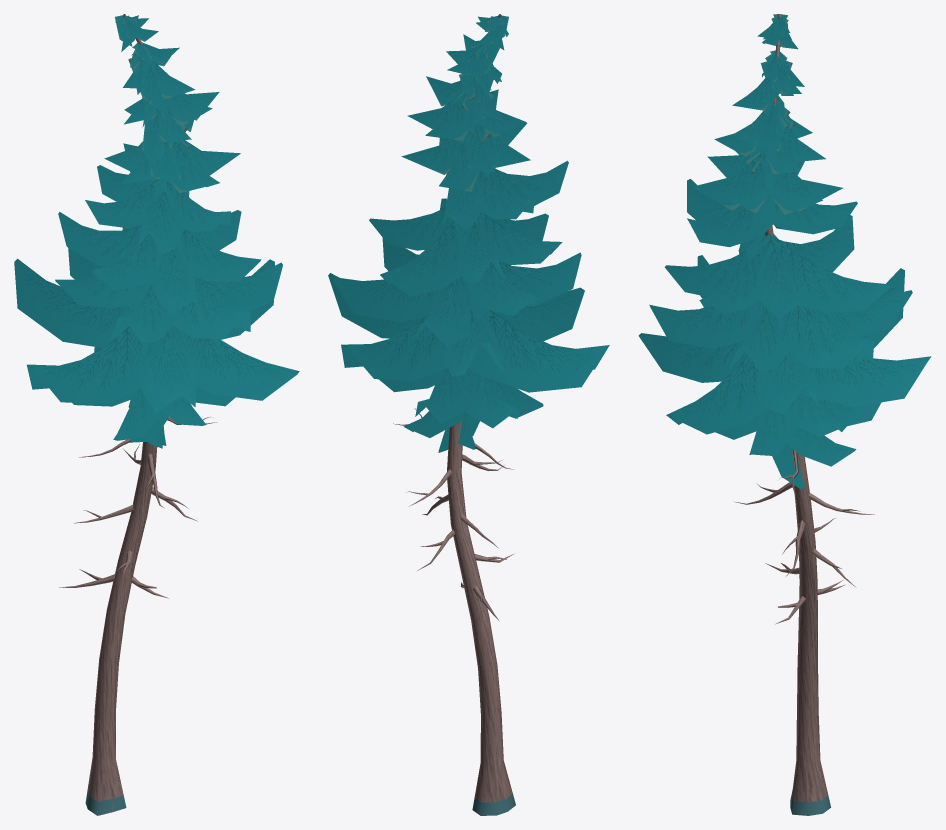
3 views of the same model, side by side, from view 1: azimuth 30°, elevation 25°; view 2: azimuth 150°, elevation 25°; view 3: azimuth 270°, elevation 25° (orthographic). The views are drawn at different scales.
Parts seen in each view (by area): view 1: submesh_1, submesh_0; view 2: submesh_1, submesh_0; view 3: submesh_1, submesh_0.
Part boxes in pixels (bbox=[...]): submesh_1: bbox=[14, 15, 299, 448]; submesh_0: bbox=[59, 14, 217, 815]; submesh_1: bbox=[328, 15, 609, 452]; submesh_0: bbox=[393, 14, 515, 815]; submesh_1: bbox=[638, 14, 931, 489]; submesh_0: bbox=[734, 14, 874, 815].
Bounding box in the file's own units: 3.99 × 11.48 × 3.83.
2 materials, 2 textured.
